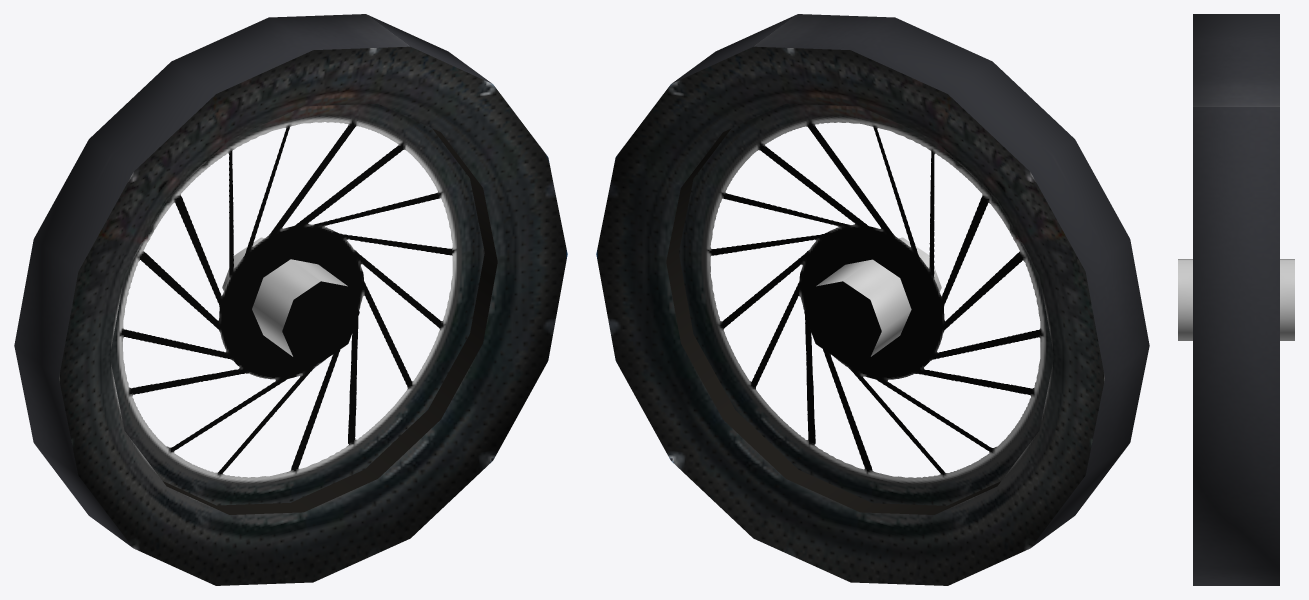
Rendered from Moto_wheel.FBX.
3 renders of one model, left to right at view 1: azimuth 30°, elevation 25°; view 2: azimuth 150°, elevation 25°; view 3: azimuth 270°, elevation 25°, orthographic. The views are drawn at different scales.
Visible parts, largest first — view 1: roata; view 2: roata; view 3: roata.
Boxes of the visible parts, x1,y1,x2,y2 form: roata: (14, 14, 567, 585); roata: (596, 14, 1149, 585); roata: (1178, 14, 1294, 585).
Bounding box in the file's own units: 54.84 × 54.84 × 11.19.
Materials: 1 (1 with a texture image).
